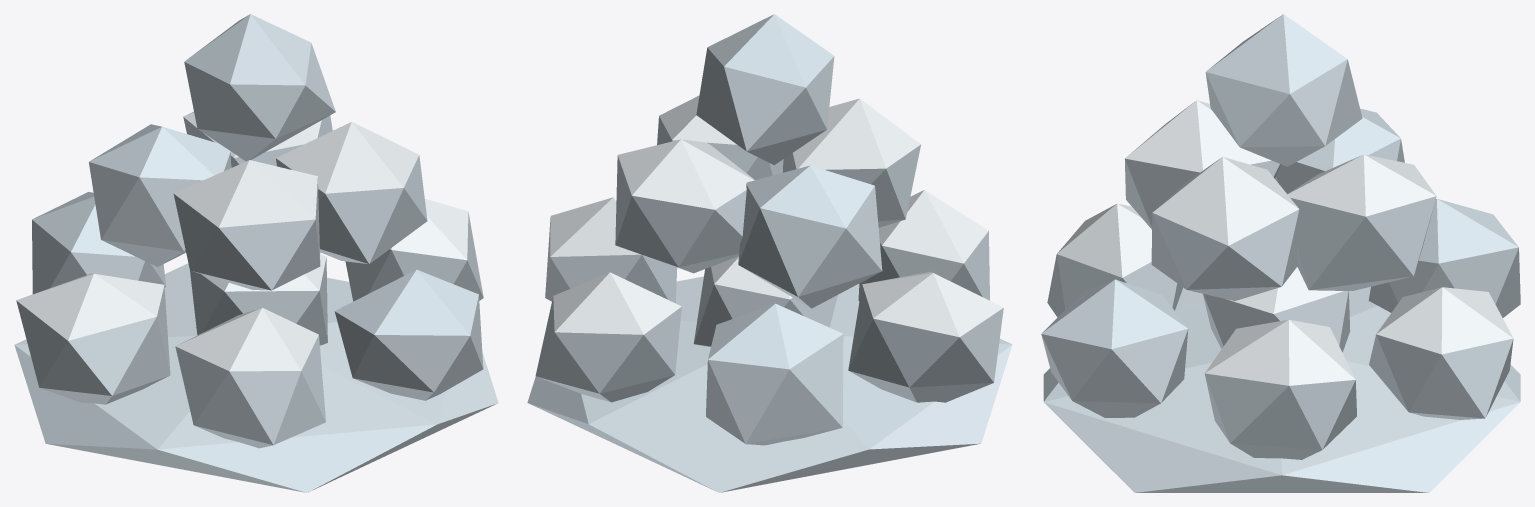
Rendered from snowball_pile.glb.
3 views of the same model, side by side, from view 1: azimuth 30°, elevation 25°; view 2: azimuth 150°, elevation 25°; view 3: azimuth 270°, elevation 25° (orthographic). The views are drawn at different scales.
Parts seen in each view (by area): view 1: snowball_pile; view 2: snowball_pile; view 3: snowball_pile.
Part boxes in pixels (x1,y1,x2,y2): snowball_pile: (14,14,498,492); snowball_pile: (527,14,1012,492); snowball_pile: (1041,14,1520,492).
Size of the model in its own units: 0.5547 by 0.4887 by 0.5131.
